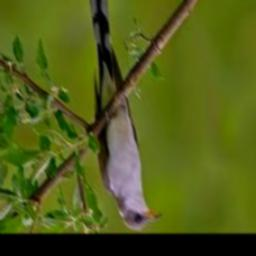Cuckoo: (86, 0, 162, 230)
